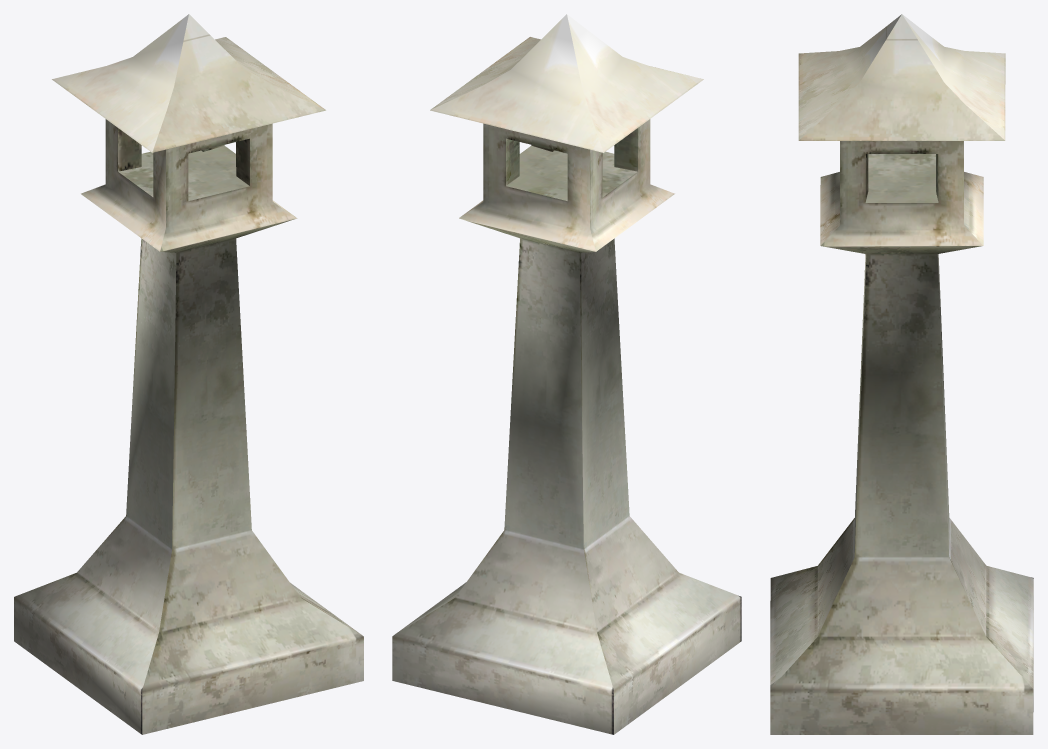
The model's file is stone post.obj.
The picture shows the model from 3 angles, left to right: view 1: azimuth 30°, elevation 25°; view 2: azimuth 150°, elevation 25°; view 3: azimuth 270°, elevation 25°; orthographic projection. The views are drawn at different scales.
Parts seen in each view (by area): view 1: mesh00-tourou; view 2: mesh00-tourou; view 3: mesh00-tourou.
Boxes of the visible parts, x1=… form: mesh00-tourou: x1=14, y1=14, x2=363, y2=734; mesh00-tourou: x1=392, y1=14, x2=741, y2=734; mesh00-tourou: x1=770, y1=14, x2=1033, y2=734.
Bounding box in the file's own units: 1.38 × 3.86 × 1.38.
